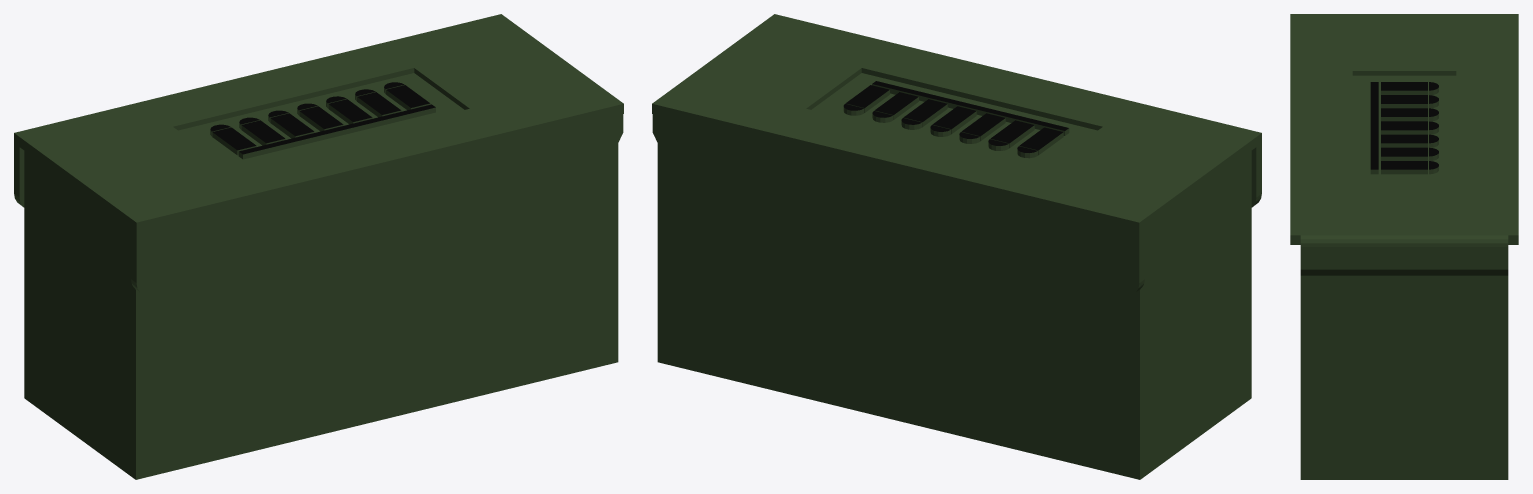
Rendered from Ammo-Item-Standard.fbx.
3 views of the same model, side by side, from view 1: azimuth 30°, elevation 25°; view 2: azimuth 150°, elevation 25°; view 3: azimuth 270°, elevation 25° (orthographic). The views are drawn at different scales.
Visible parts, largest first — view 1: Ammo-Item-Standard; view 2: Ammo-Item-Standard; view 3: Ammo-Item-Standard.
Boxes of the visible parts, x1,y1,x2,y2 form: Ammo-Item-Standard: (14,14,623,479); Ammo-Item-Standard: (652,14,1261,479); Ammo-Item-Standard: (1290,14,1518,479).
Bounding box in the file's own units: 510 × 260 × 220.
